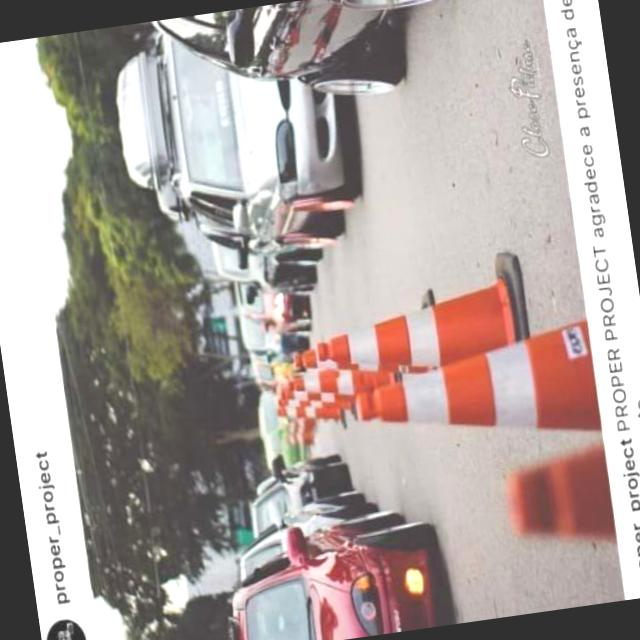cone: (346, 305, 594, 458), (313, 261, 526, 398)
